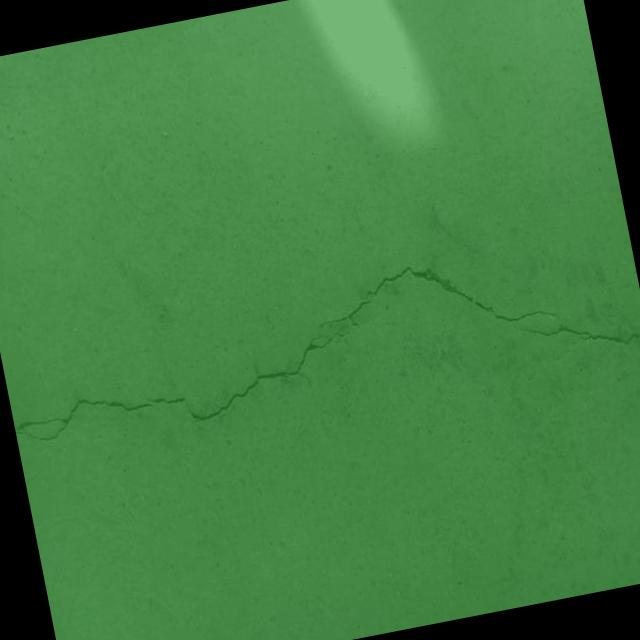crack: (0, 238, 563, 456), (515, 303, 640, 366)
